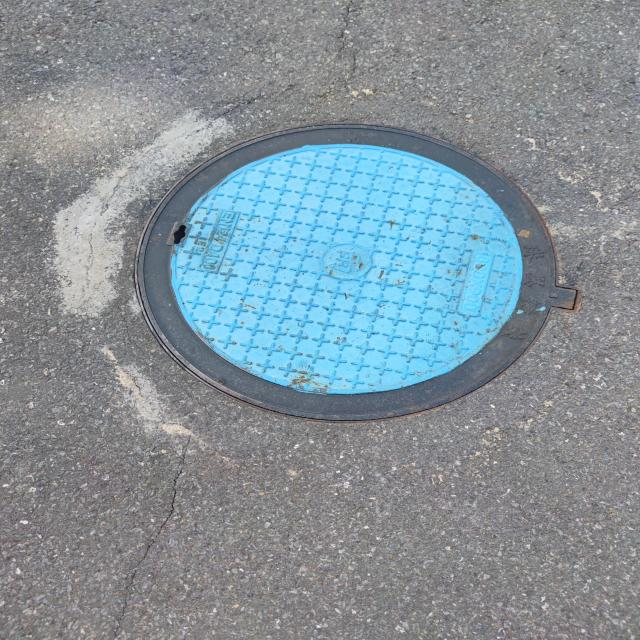Good: (128, 119, 581, 427)
